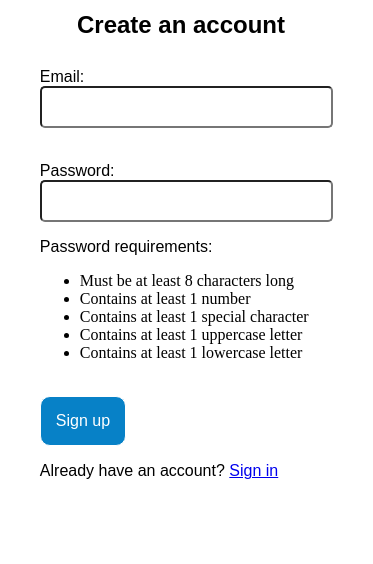
Scenario: SignUp component › Submit empty form
The width and height of the screenshot is (373, 564).
Step 1. Click the button "Sign up" → (83, 421), box [40,396,126,446]
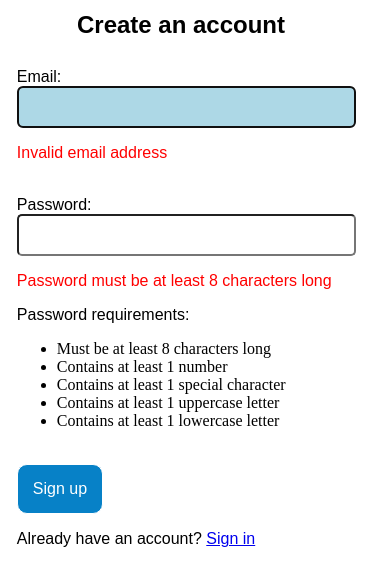
Now the text "Invalid email address" is shown, box [17,144,167,161]
Now the text "Password must be at least 8 characters long" is shown, box [17,272,332,290]
